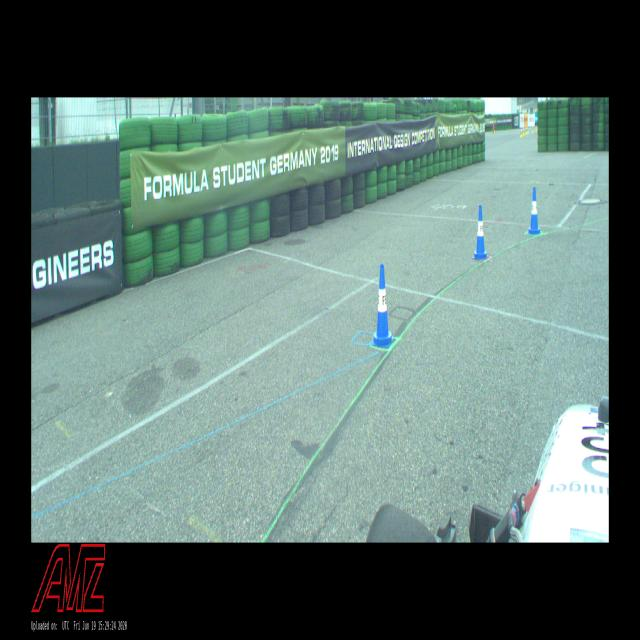blue_cone: (371, 264, 394, 348), (472, 205, 488, 260), (527, 187, 541, 235)
yellow_cone: (520, 129, 522, 138), (492, 124, 494, 133), (522, 128, 524, 136)
